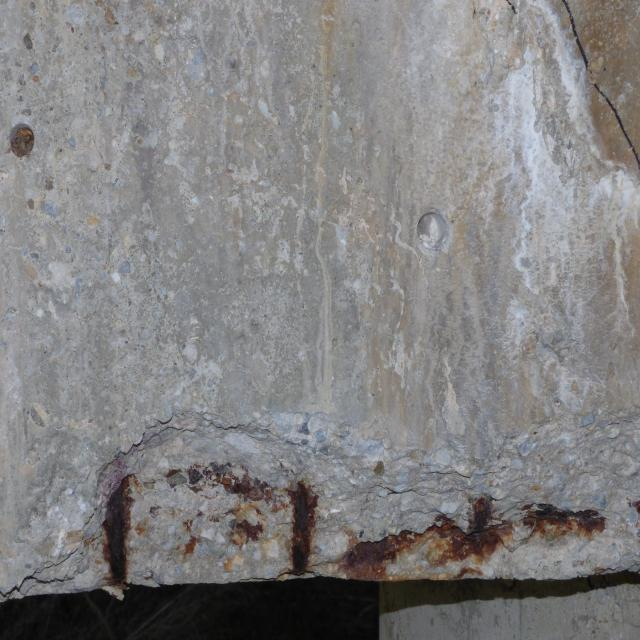corrosion: (80, 438, 640, 590), (7, 111, 37, 171)
